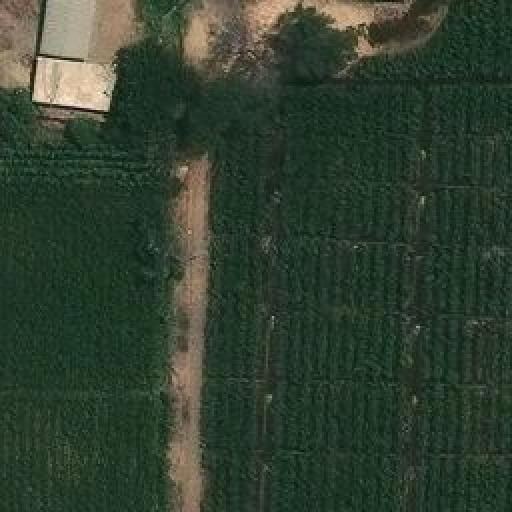manzanas: (27, 1, 128, 120)
